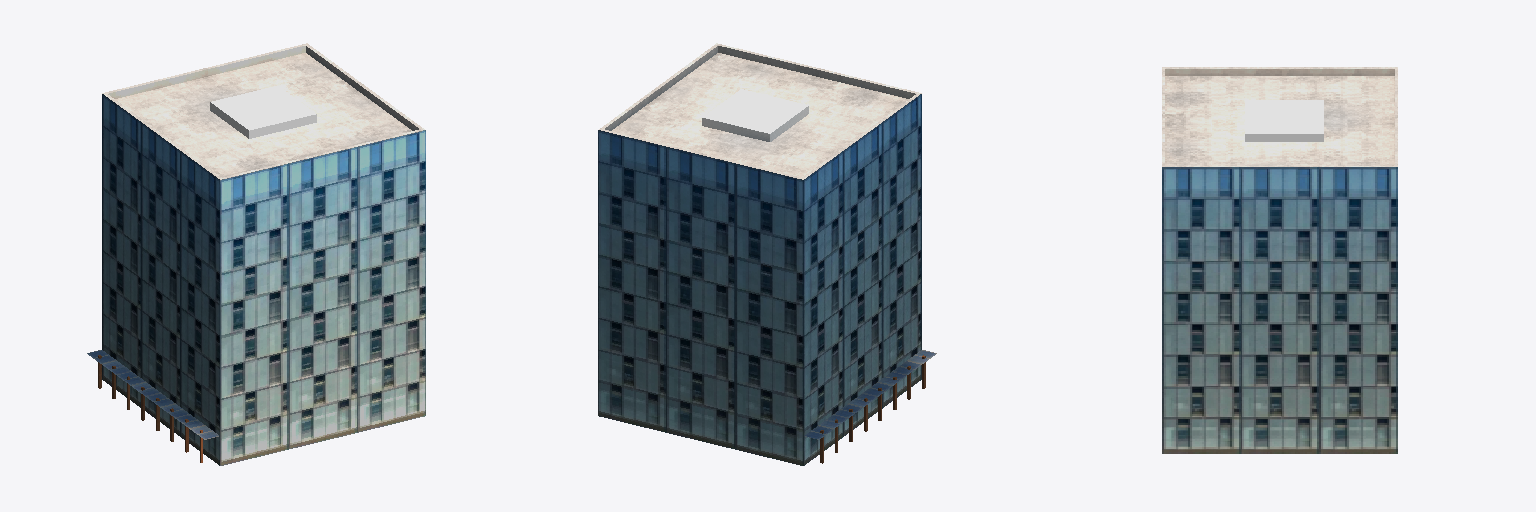
3 views of the same model, side by side, from view 1: azimuth 30°, elevation 25°; view 2: azimuth 150°, elevation 25°; view 3: azimuth 270°, elevation 25° (orthographic).
Visible parts, largest first — view 1: 4B2; view 2: 4B2; view 3: 4B2.
Part boxes in pixels (x1,y1,x2,y2): 4B2: (87,43,425,465); 4B2: (598,43,936,465); 4B2: (1162,67,1397,453).
Bounding box in the file's own units: 32.28 × 40.18 × 30.
1 materials, 1 textured.